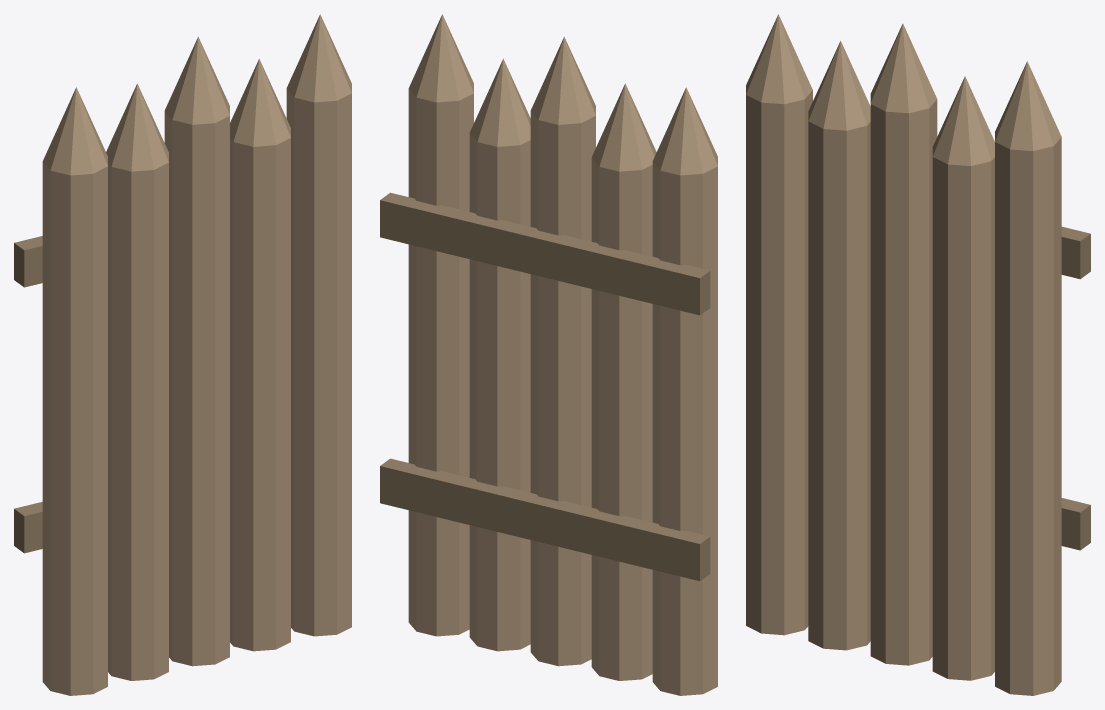
Rendered from palisade.fbx.
3 renders of one model, left to right at view 1: azimuth 30°, elevation 25°; view 2: azimuth 150°, elevation 25°; view 3: azimuth 330°, elevation 25°, orthographic. The views are drawn at different scales.
Visible parts, largest first — view 1: Palisade; view 2: Palisade; view 3: Palisade.
Boxes of the visible parts, x1,y1,x2,y2 form: Palisade: (14,14,351,695); Palisade: (380,14,717,695); Palisade: (746,14,1090,695).
Size of the model in its own units: 126 by 232 by 28.
